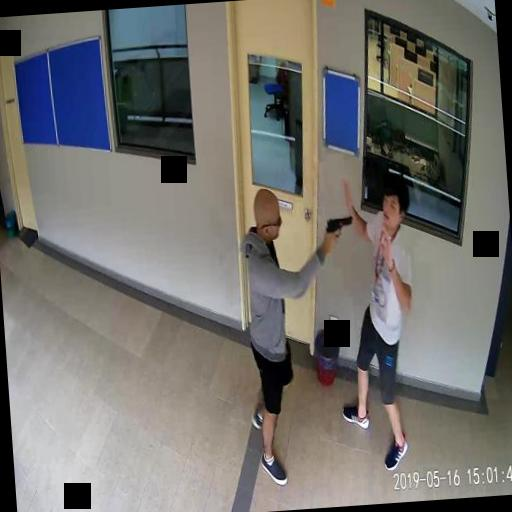Handgun: (324, 213, 352, 243)
